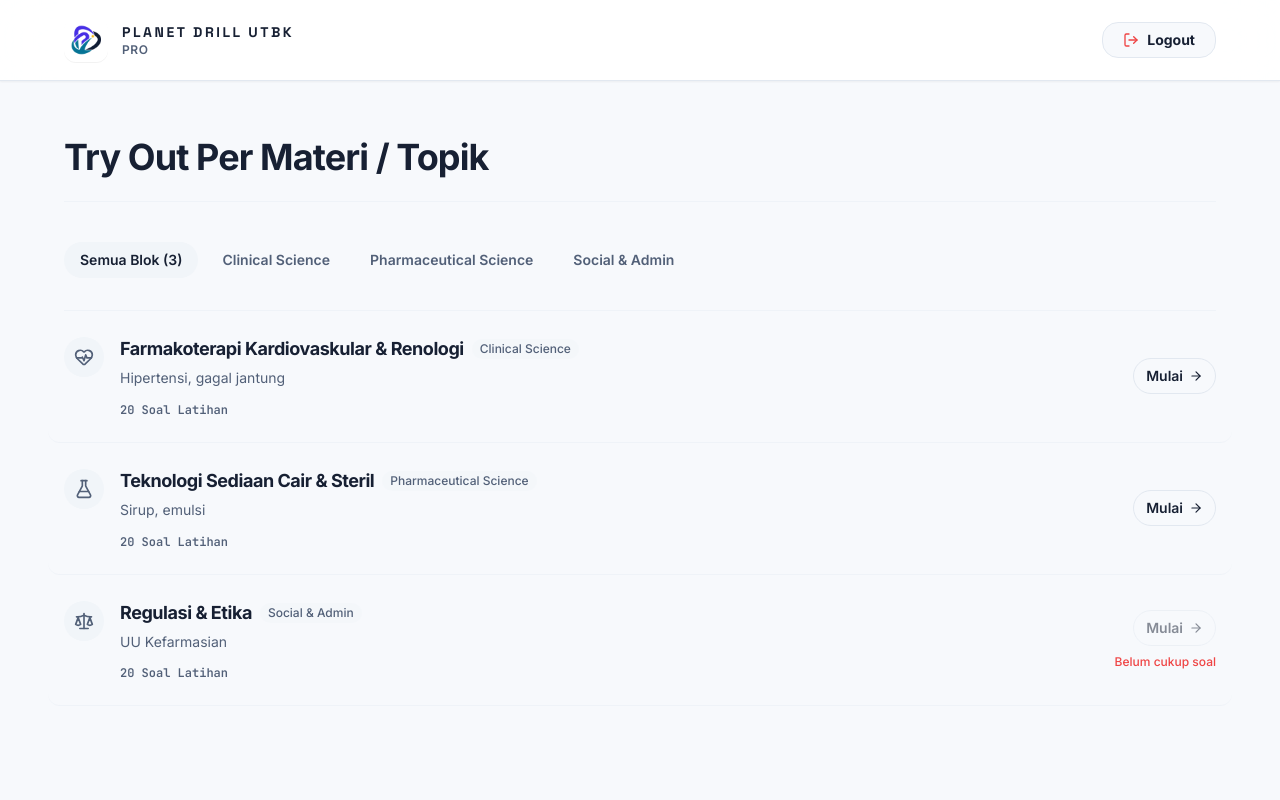
Test case: TryoutTopicSelectionPage › filters topics when filter buttons are clicked
The image size is (1280, 800).
Expected: the heading "Farmakoterapi Kardiovaskular & Renologi" is shown, [120,335,464,363]
Click the button with test id "filter-b1". click: coordinates (276, 260)
box: [206,242,346,278]
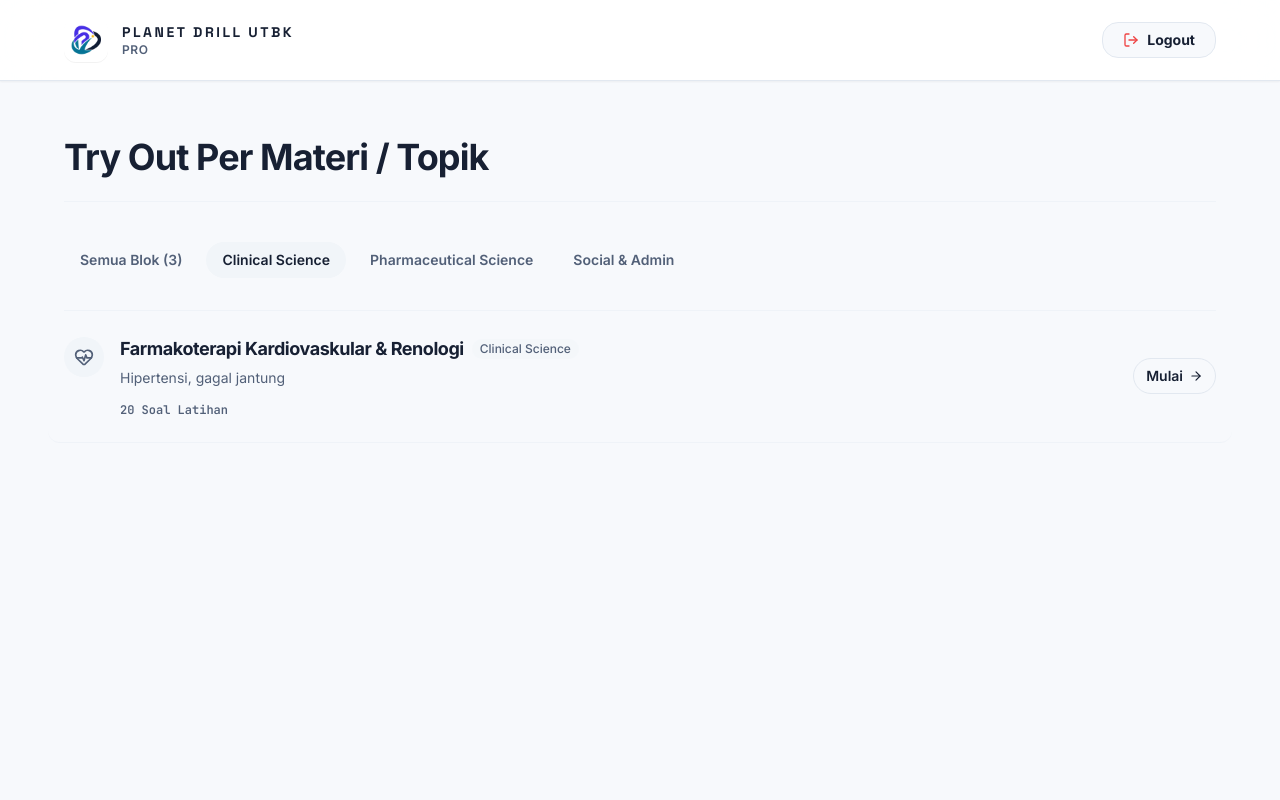
Expected: the heading "Farmakoterapi Kardiovaskular & Renologi" is shown, [120,335,464,363]
Expected: the heading "Teknologi Sediaan Cair & Steril" is gone
Expected: the heading "Regulasi & Etika" is gone
